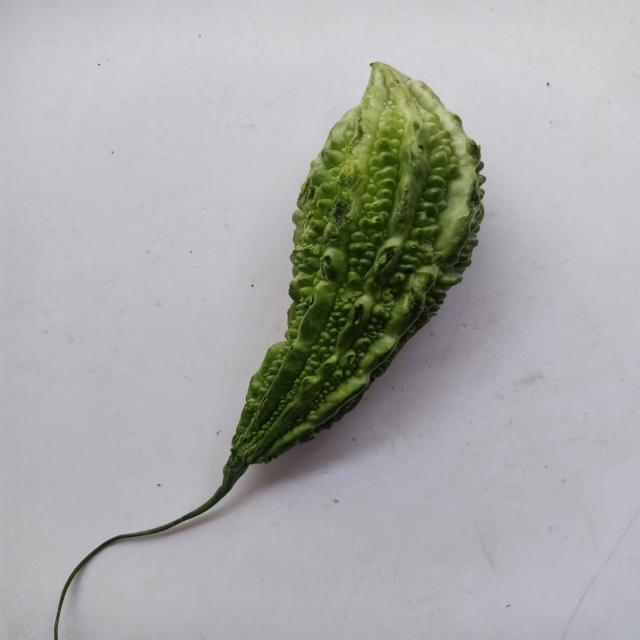Bitter Gourd: (34, 50, 584, 640)
